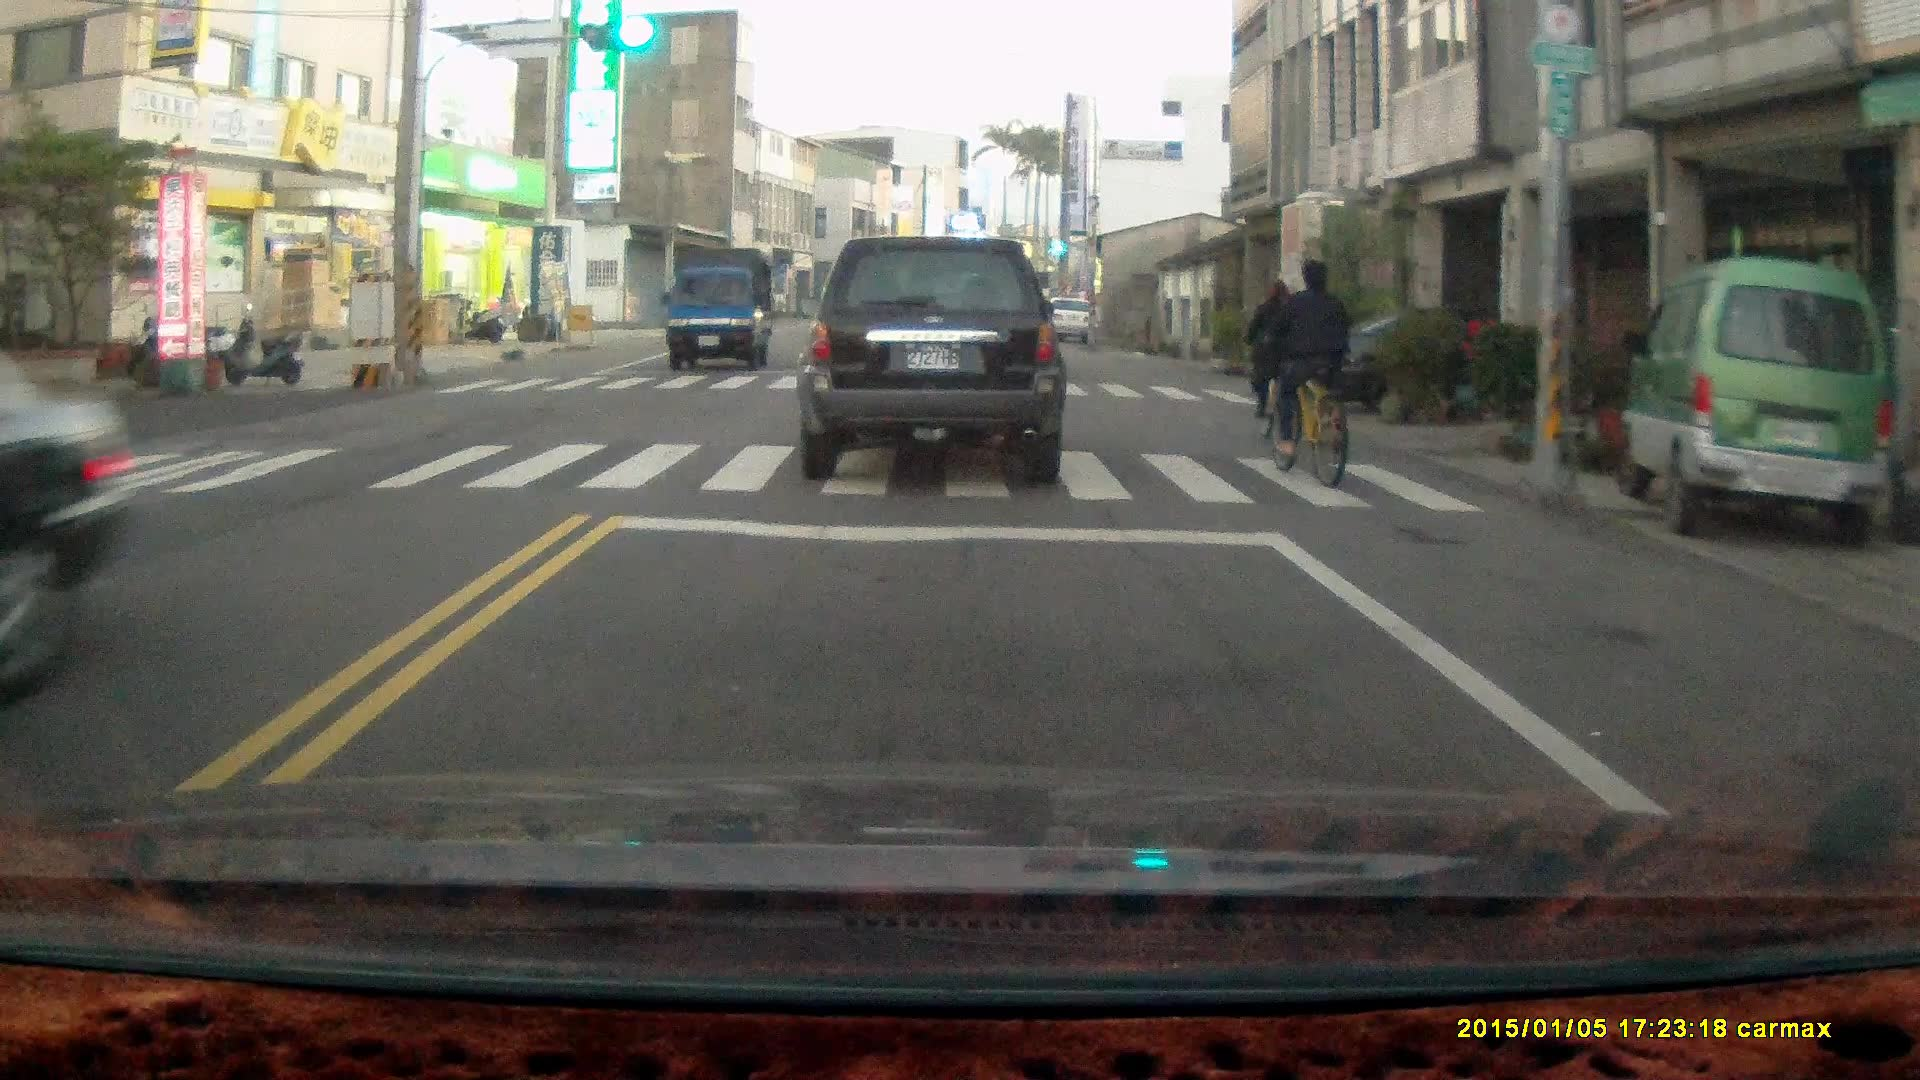rider: (1267, 254, 1359, 484), (1246, 273, 1308, 442)
vehicle: (1621, 254, 1898, 550), (798, 234, 1068, 482), (1, 337, 147, 662), (1332, 307, 1616, 424), (664, 250, 777, 372)
